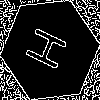H: (25, 25, 76, 76)
